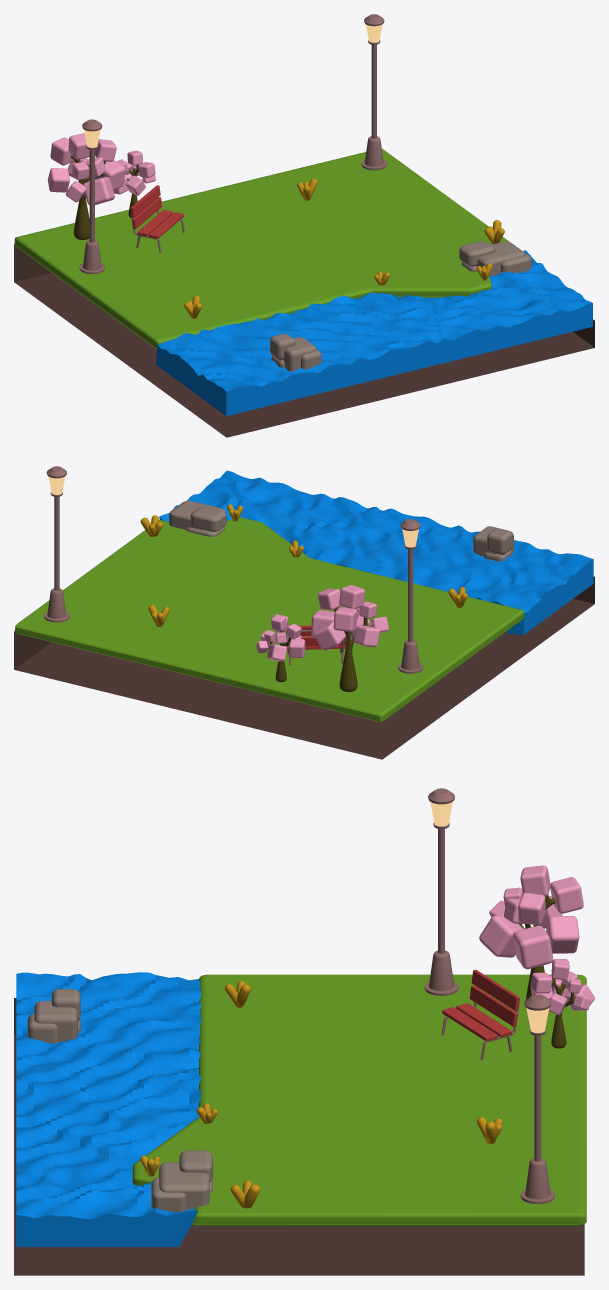
File: base_map.glb
The picture shows the model from 3 angles, top to bottom: view 1: azimuth 30°, elevation 25°; view 2: azimuth 150°, elevation 25°; view 3: azimuth 270°, elevation 25°; orthographic projection. The views are drawn at different scales.
Visible parts, largest first — view 1: Base_Grass, Water, Base_Ground, Rock.004, Lamp2, Lamp1, Bench, Rock.006, Tree, Cube.041; view 2: Base_Grass, Water, Base_Ground, Lamp2, Lamp1, Rock.004, Rock.006, Tree, Cube.042, Cube.033, Cube.037, Cube.040 (+1 smaller); view 3: Base_Grass, Water, Base_Ground, Rock.004, Bench, Lamp2, Lamp1, Rock.006, Cube.036, Cube.041, Cube.042, Cube.037 (+2 smaller).
Boxes of the visible parts, x1,y1,x2,y2 form: Base_Grass: [14, 149, 509, 348]; Water: [156, 250, 592, 416]; Base_Ground: [14, 244, 594, 437]; Rock.004: [459, 241, 531, 276]; Lamp2: [361, 14, 386, 170]; Lamp1: [79, 119, 104, 274]; Bench: [130, 185, 184, 238]; Rock.006: [270, 333, 321, 371]; Tree: [70, 155, 106, 239]; Cube.041: [83, 177, 114, 204]; Base_Grass: [15, 517, 524, 721]; Water: [159, 470, 593, 635]; Base_Ground: [14, 576, 594, 759]; Lamp2: [44, 466, 69, 622]; Lamp1: [398, 519, 423, 673]; Rock.004: [169, 500, 226, 536]; Rock.006: [473, 526, 513, 561]; Tree: [334, 607, 372, 691]; Cube.042: [314, 620, 345, 650]; Cube.033: [339, 585, 365, 608]; Cube.037: [333, 607, 357, 631]; Cube.040: [354, 625, 379, 646]; Base_Grass: [132, 974, 586, 1225]; Water: [16, 972, 200, 1246]; Base_Ground: [14, 998, 584, 1275]; Rock.004: [151, 1150, 212, 1212]; Bench: [442, 969, 519, 1041]; Lamp2: [520, 994, 554, 1203]; Lamp1: [424, 788, 458, 995]; Rock.006: [27, 989, 80, 1043]; Cube.036: [513, 925, 553, 969]; Cube.041: [479, 915, 523, 957]; Cube.042: [546, 916, 579, 953]; Cube.037: [550, 877, 583, 913].
Size of what is drawn, in the model's own units: 8 by 4.04 by 8.14.
